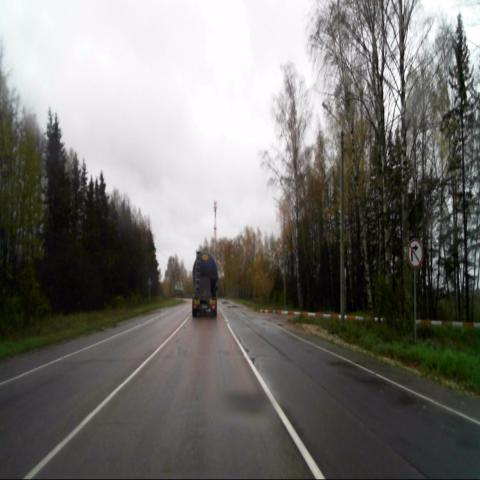3_18: (406, 237, 424, 270)
